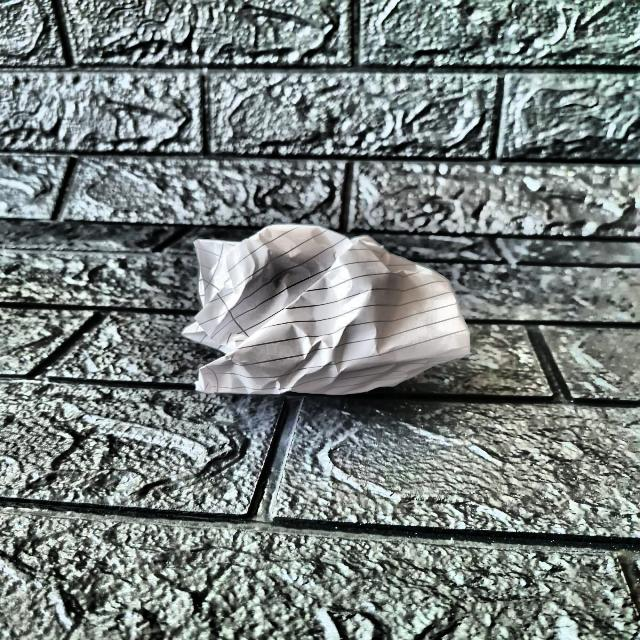Paper: (184, 222, 477, 402)
